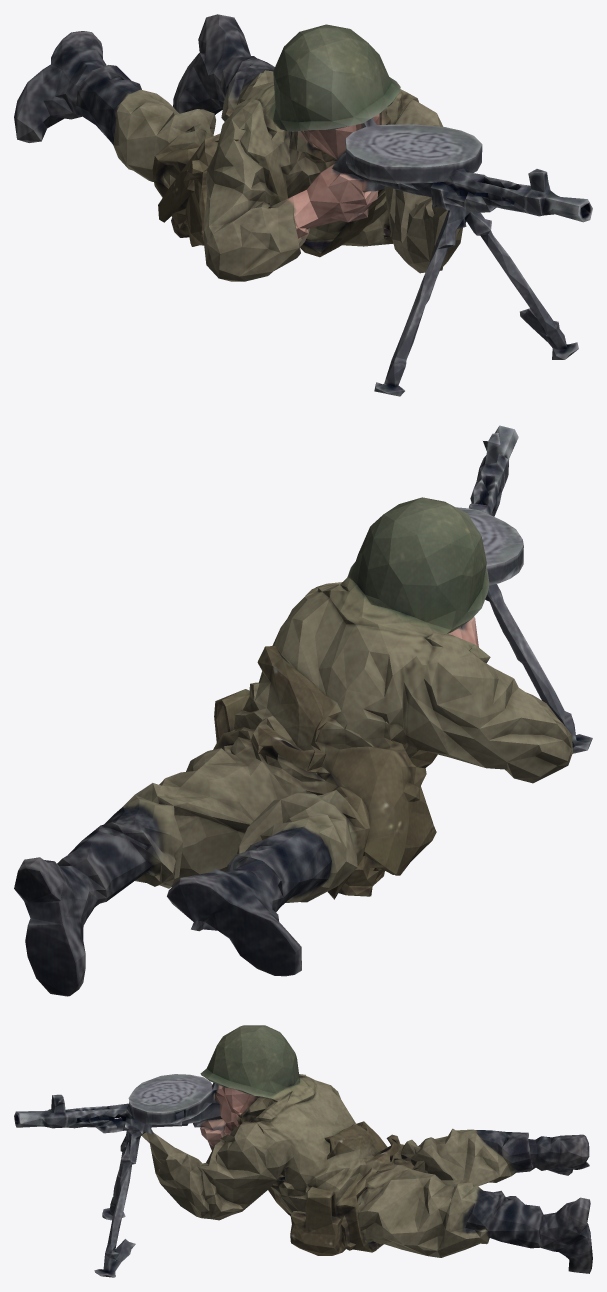
The model's file is ally_su_prone.obj.
The picture shows the model from 3 angles, top to bottom: view 1: azimuth 30°, elevation 25°; view 2: azimuth 150°, elevation 25°; view 3: azimuth 270°, elevation 25°; orthographic projection. The views are drawn at different scales.
Visible parts, largest first — view 1: ally_su_prone; view 2: ally_su_prone; view 3: ally_su_prone.
Boxes of the visible parts, x1=… form: ally_su_prone: x1=14, y1=14, x2=592, y2=396; ally_su_prone: x1=14, y1=425, x2=592, y2=996; ally_su_prone: x1=14, y1=1025, x2=592, y2=1277.
Size of the model in its own units: 0.7262 by 0.75 by 1.86.
1 material, 1 textured.
